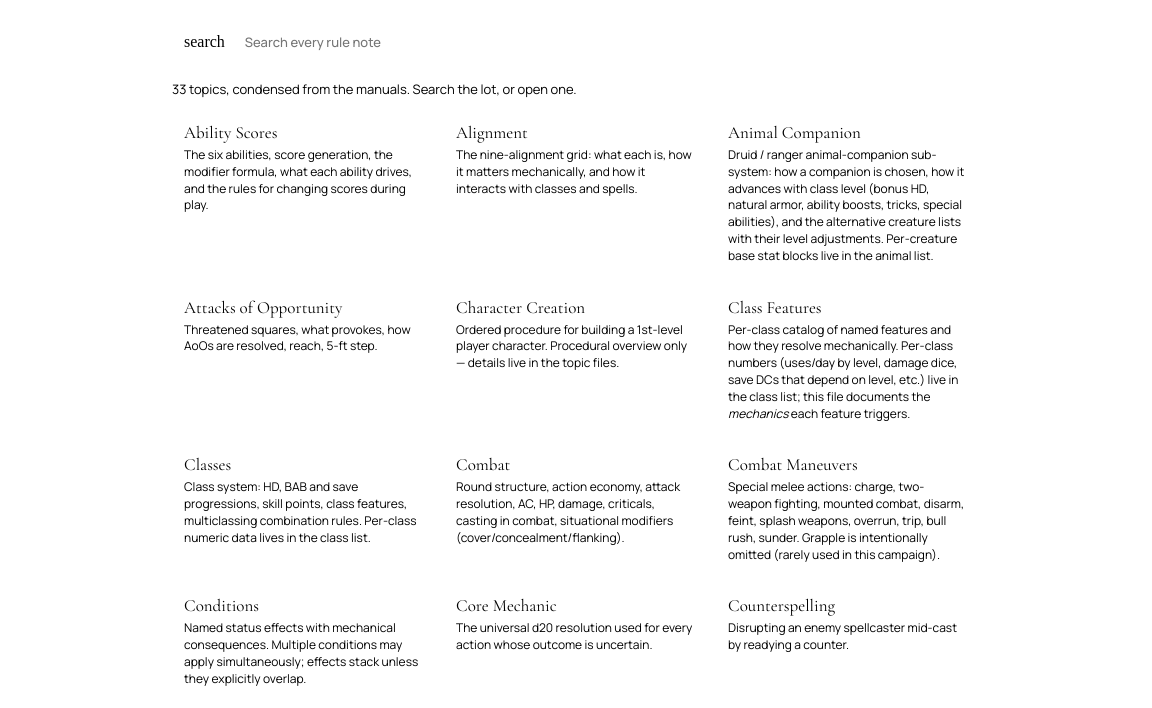
search › finds sections by a word in their prose, not only in a heading
Type "counterspell" into the search field at (600, 42), box [233, 24, 968, 60]
Wait 250 ms
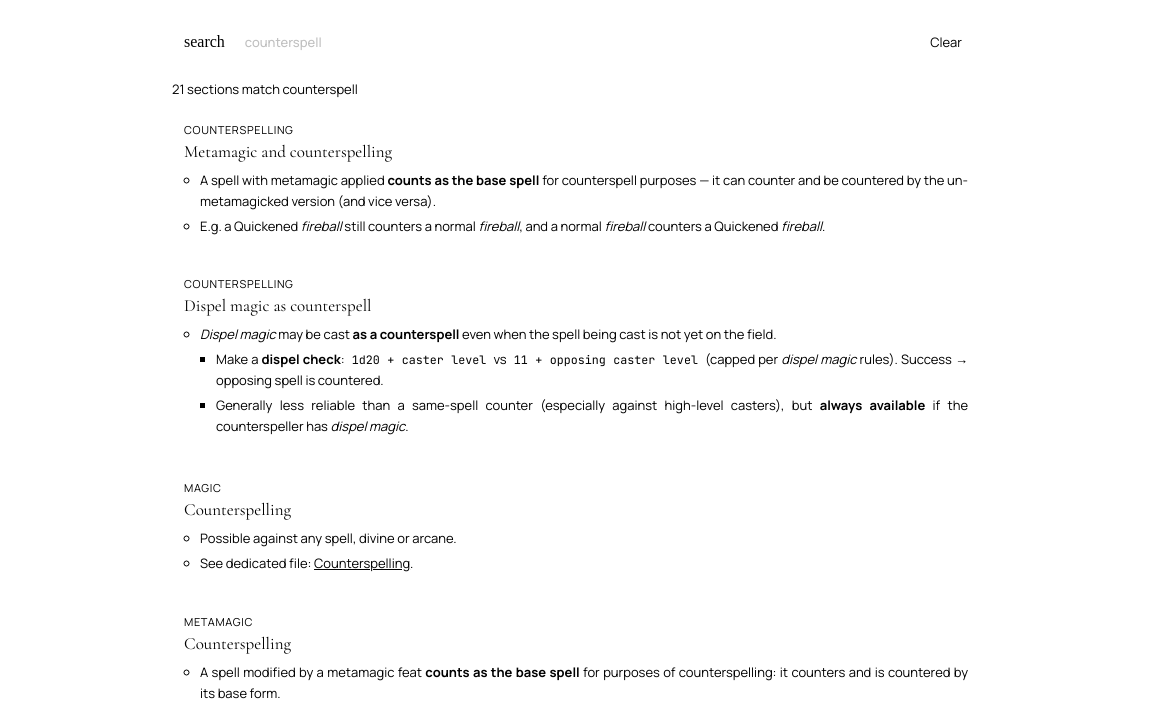
Now the text "21 sections match counterspell" is shown, box [172, 80, 358, 98]
